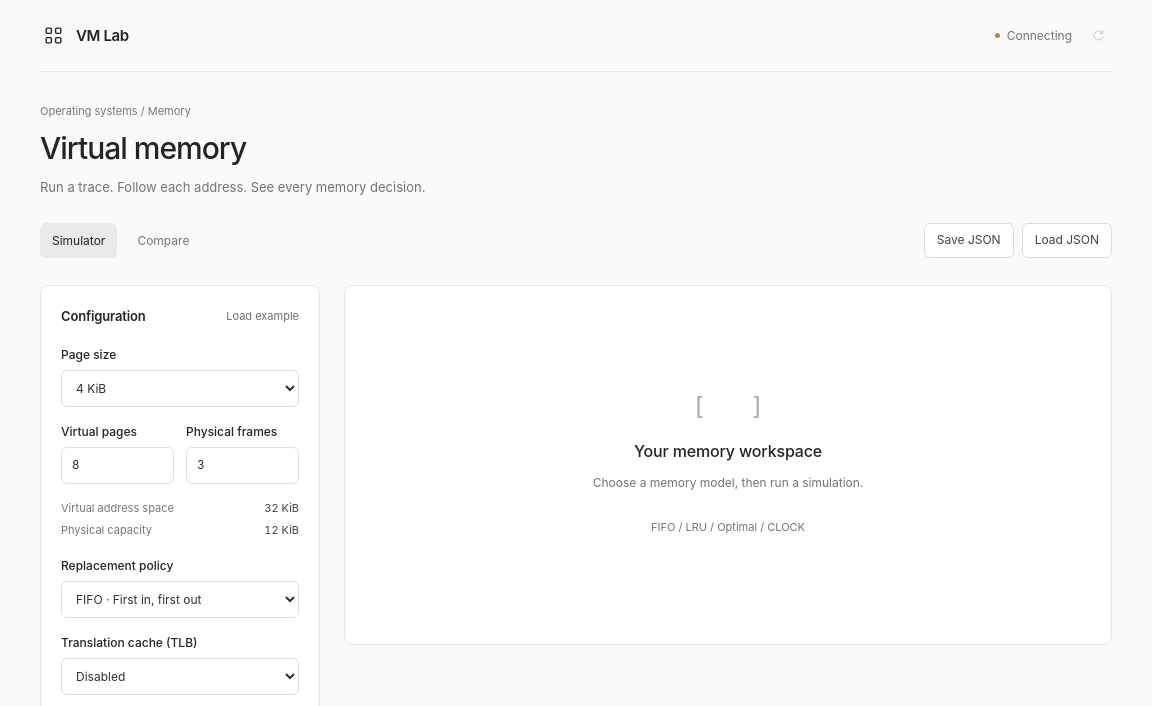
Test: interactive simulation › renders lru metadata from the selected snapshot
This screenshot has width=1152, height=706.
Replace the text in the number field labelled "Physical frames" with "2" at (242, 465), box [186,447,299,484]
(page scrolled)
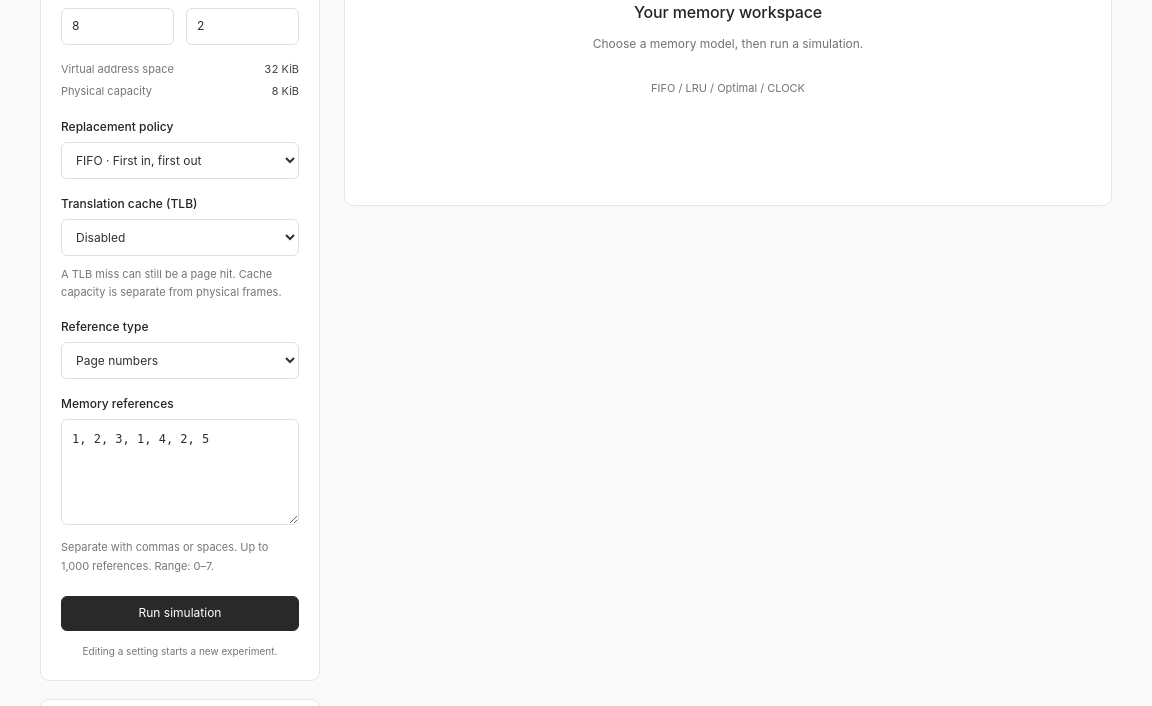
Select "Virtual byte addresses" in the dropdown labelled "Reference type" at (180, 361), box [61,342,299,379]
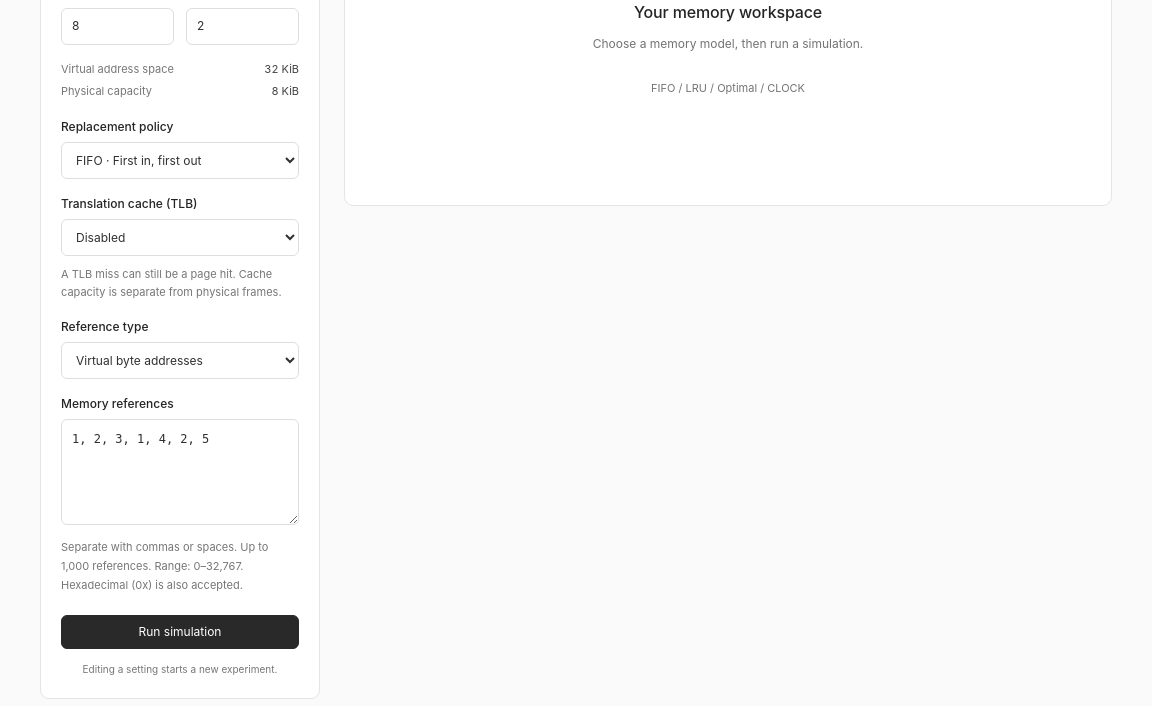
Replace the text in the text box labelled "Memory references" with "0, 4097, 0, 8194" at (180, 472), box [61,419,299,526]
Select "LRU · Least recently used" in the dropdown labelled "Replacement policy" at (180, 160), box [61,142,299,179]
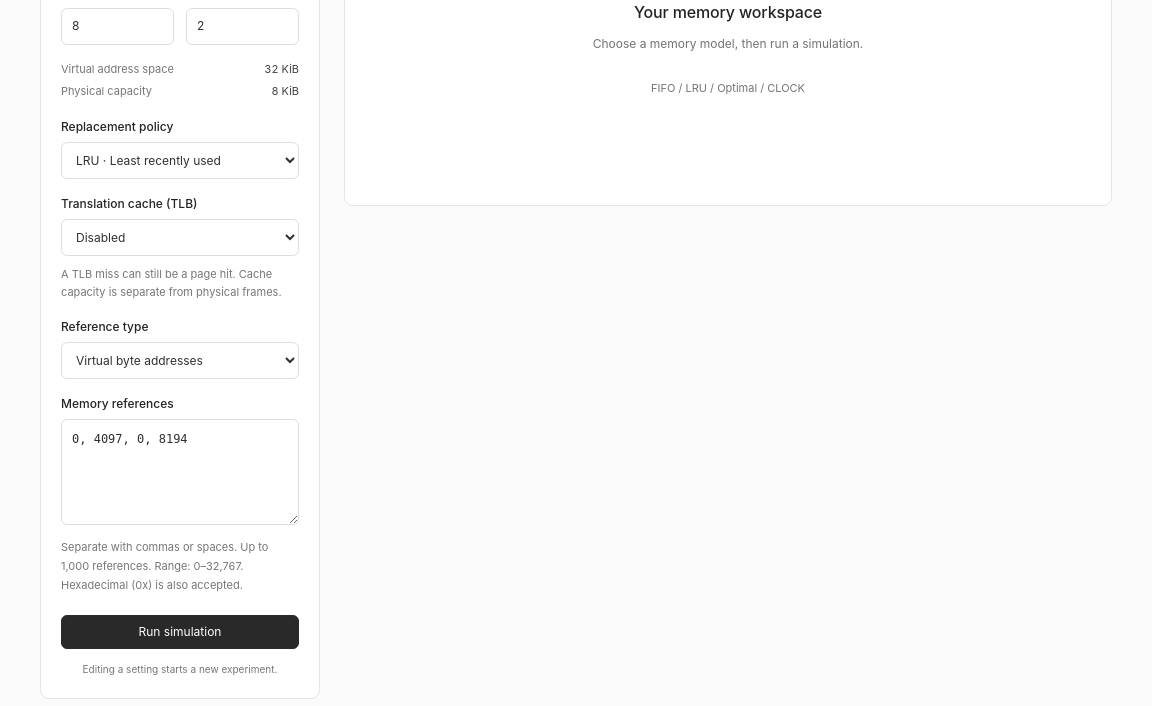
Click the button "Run simulation" at (180, 632), box [61,614,299,649]
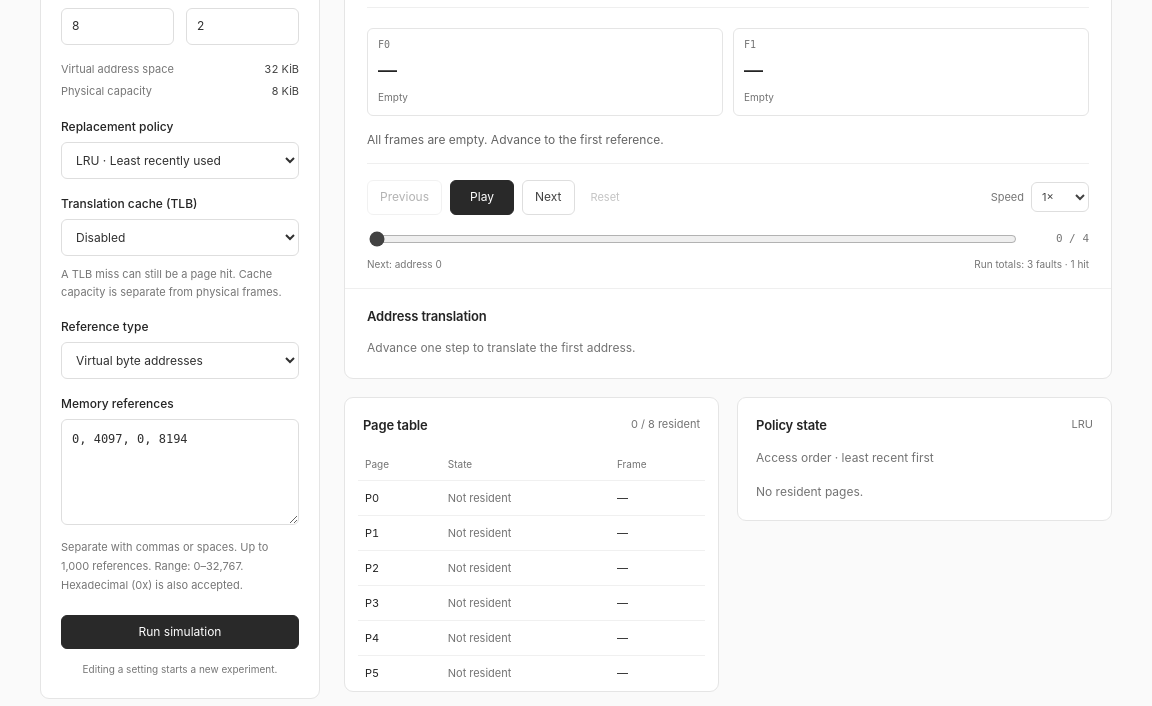
Set the slider named "Simulation step" to "4" at (1009, 239), box [369,231,1017,247]
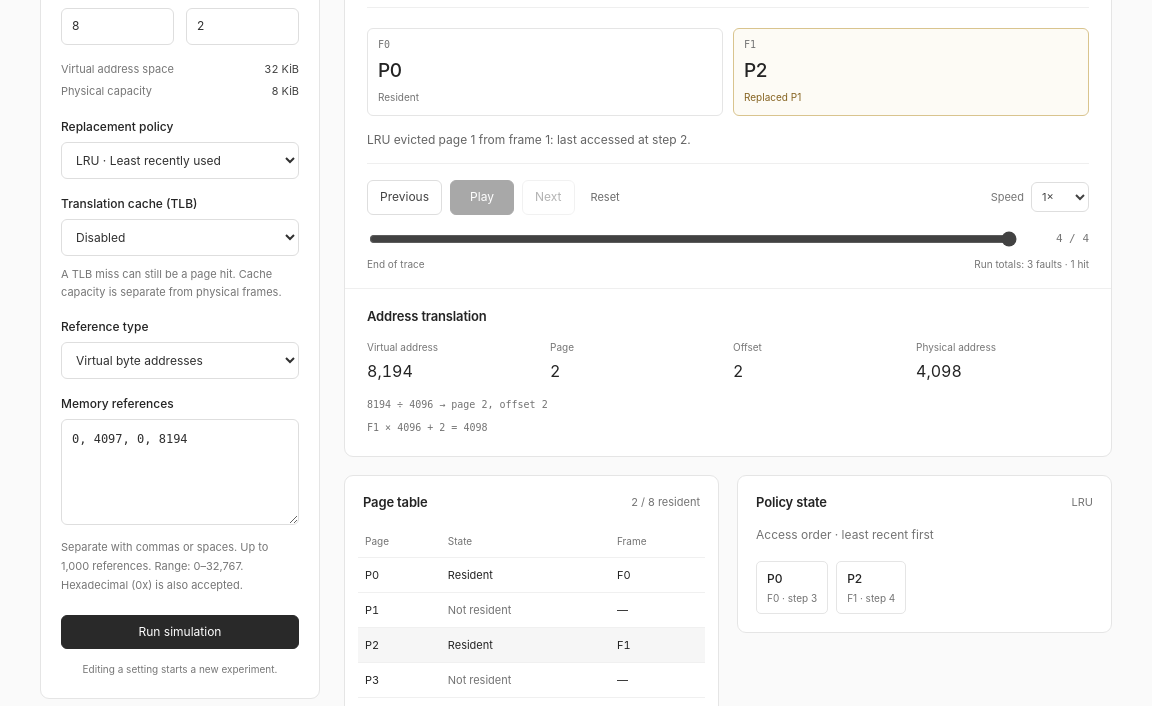
Result: the element "Policy state" shows "least recent" at [756,527,934,542]
Click the button "Reset" at (605, 197), box [582,182,628,212]
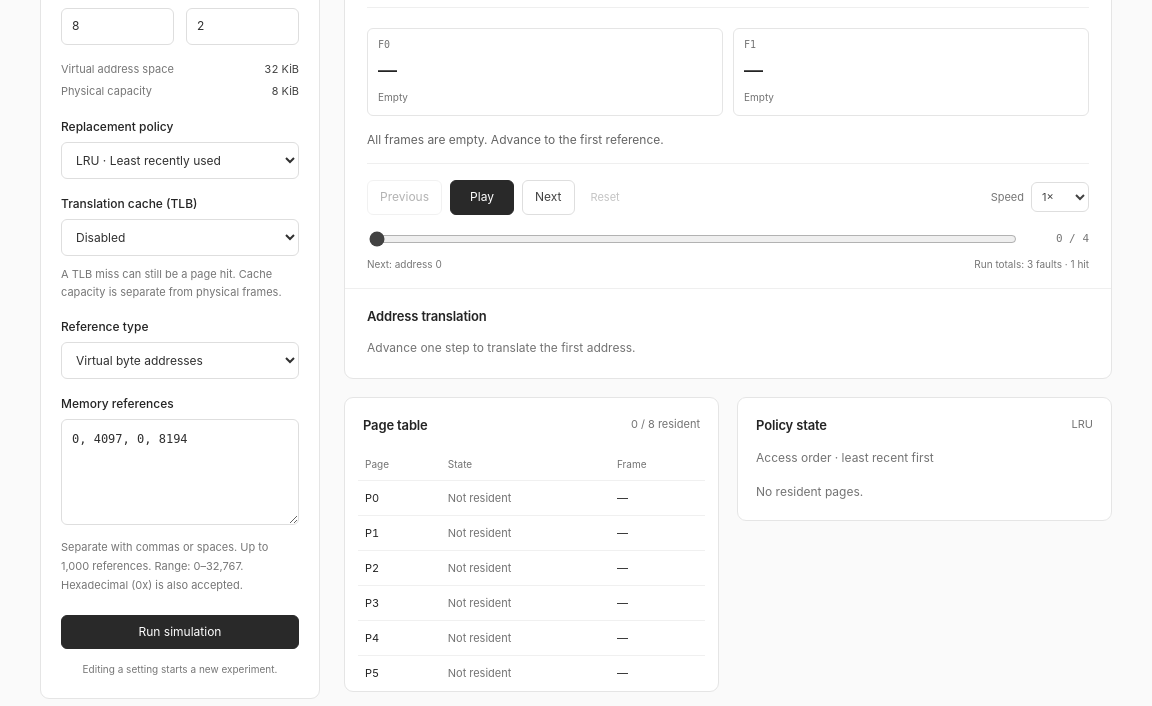
Result: the element "Policy state" shows "No resident pages." at [756,484,863,499]
